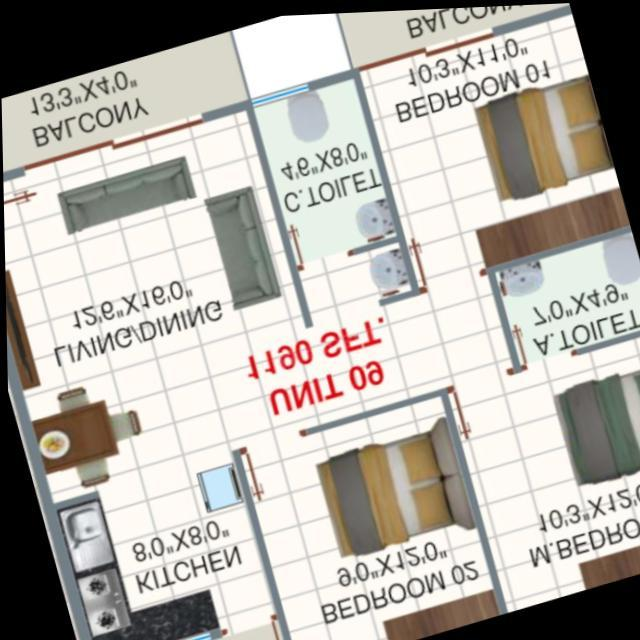Balcony-Sitout: (1, 27, 251, 171), (340, 2, 570, 65)
Bedroom: (366, 16, 630, 286), (241, 394, 501, 640)
Enterance-Foyer: (3, 175, 63, 261)
Kitchen: (50, 445, 277, 640)
Living: (3, 108, 301, 382)
Toilet: (250, 75, 422, 321), (490, 229, 640, 370)
Utility: (196, 617, 282, 640)
